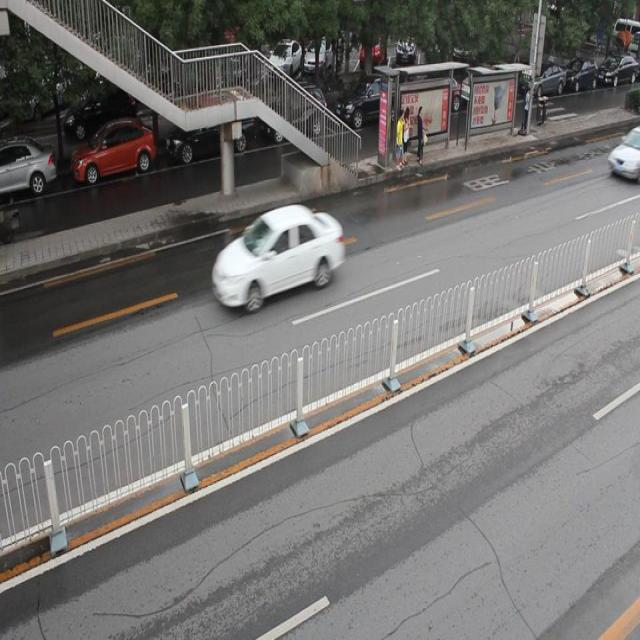car: (210, 206, 343, 311), (72, 120, 156, 184), (167, 105, 255, 160), (334, 76, 399, 130), (1, 137, 55, 200), (262, 90, 326, 142), (608, 123, 640, 183)
